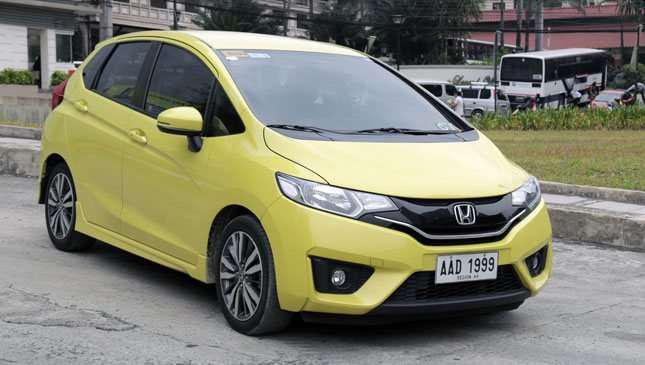Hatchback: (29, 18, 561, 340)
